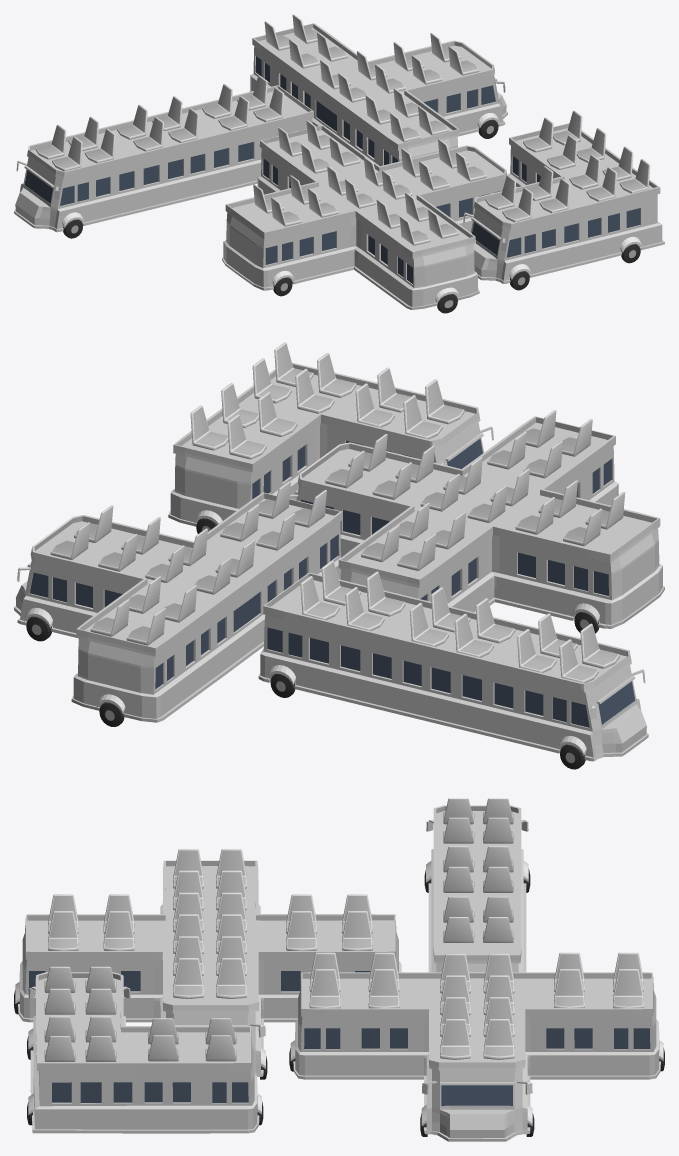
The model's file is Bus FBX.fbx.
3 views of the same model, one above another, from view 1: azimuth 30°, elevation 25°; view 2: azimuth 150°, elevation 25°; view 3: azimuth 270°, elevation 25° (orthographic). The views are drawn at different scales.
Parts seen in each view (by area): view 1: Plus Bus, Bus.006, Double Bus, Plus Bus.001; view 2: Plus Bus, Bus.006, Double Bus, Plus Bus.001; view 3: Double Bus, Plus Bus, Plus Bus.001, Bus.006.
Part boxes in pixels (x1,y1,x2,y2): Plus Bus: (222, 120, 516, 313); Bus.006: (14, 75, 313, 238); Double Bus: (249, 14, 507, 166); Plus Bus.001: (463, 110, 664, 290); Plus Bus: (289, 410, 664, 633); Bus.006: (258, 560, 648, 769); Double Bus: (14, 481, 342, 726); Plus Bus.001: (168, 342, 493, 533); Double Bus: (289, 952, 664, 1141); Plus Bus: (14, 849, 401, 1079); Plus Bus.001: (27, 966, 263, 1133); Bus.006: (424, 798, 530, 972).
Bounding box in the file's own units: 1899 × 330 × 1874.
